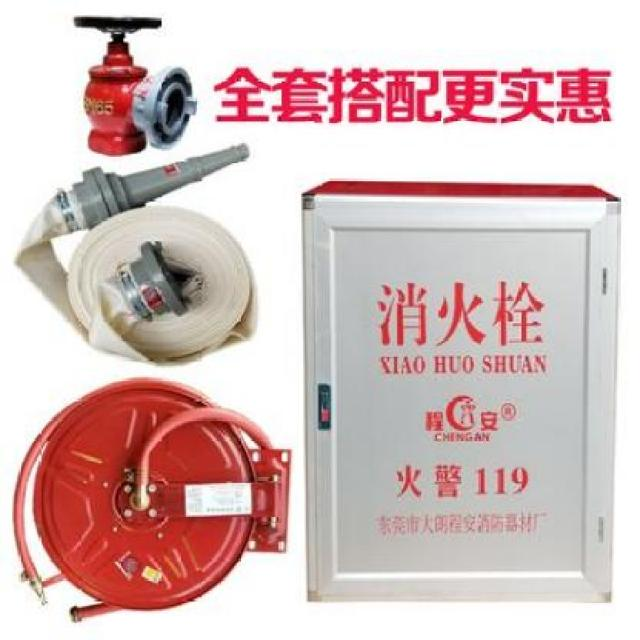firehydrant: (296, 172, 626, 610)
